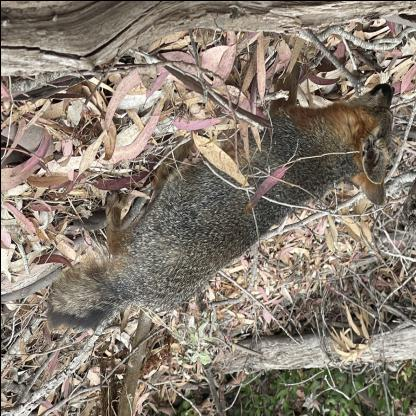zorro: (37, 61, 402, 333)
